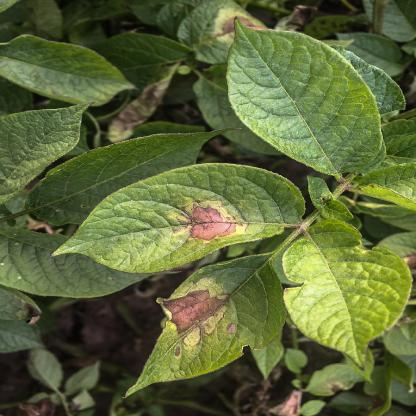Potato leaf late blight: (56, 160, 308, 268), (121, 251, 281, 389), (177, 1, 281, 66)
